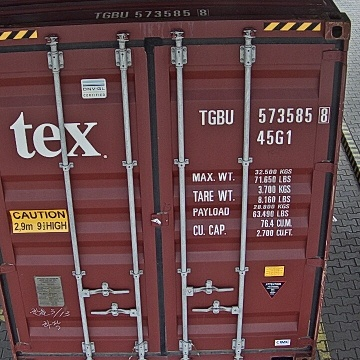serial_id: (199, 107, 329, 124)
